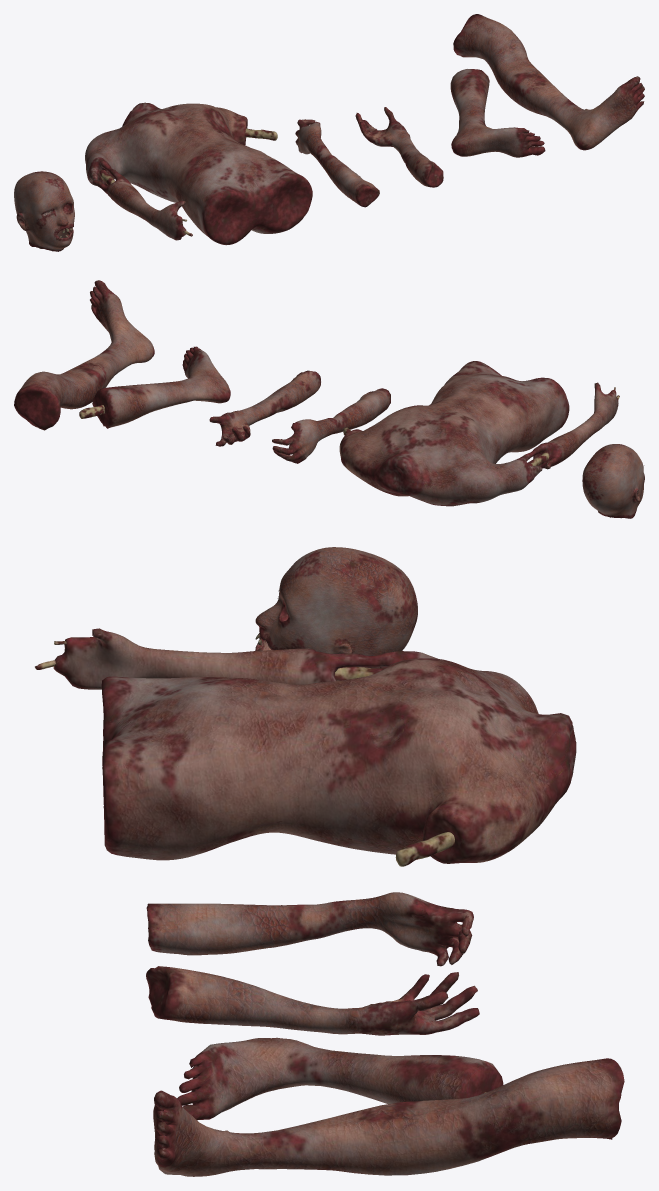
Rendered from limbs.glb.
The picture shows the model from 3 angles, top to bottom: view 1: azimuth 30°, elevation 25°; view 2: azimuth 150°, elevation 25°; view 3: azimuth 270°, elevation 25°; orthographic projection. The views are drawn at different scales.
Parts seen in each view (by area): view 1: Torso LP, Feet Left LP, Feet Right LP, Head LP, Arms LP Left, Arms LP Right; view 2: Torso LP, Feet Left LP, Feet Right LP, Head LP, Arms LP Left, Arms LP Right; view 3: Torso LP, Feet Left LP, Feet Right LP, Arms LP Left, Head LP, Arms LP Right.
Part boxes in pixels (x1,y1,x2,y2): Torso LP: [85, 102, 312, 245]; Feet Left LP: [453, 14, 644, 150]; Feet Right LP: [450, 69, 545, 157]; Head LP: [14, 171, 74, 251]; Arms LP Left: [295, 119, 379, 207]; Arms LP Right: [355, 107, 443, 187]; Torso LP: [339, 361, 619, 506]; Feet Left LP: [14, 280, 154, 430]; Feet Right LP: [79, 346, 230, 428]; Head LP: [582, 444, 644, 518]; Arms LP Left: [272, 388, 390, 463]; Arms LP Right: [209, 370, 320, 446]; Torso LP: [35, 628, 576, 866]; Feet Left LP: [153, 1058, 624, 1176]; Feet Right LP: [177, 1037, 503, 1120]; Arms LP Left: [146, 892, 473, 966]; Head LP: [255, 547, 417, 668]; Arms LP Right: [146, 966, 479, 1035].
Size of the model in its own units: 1.85 by 0.2336 by 0.8138.
4 materials, 4 textured.
